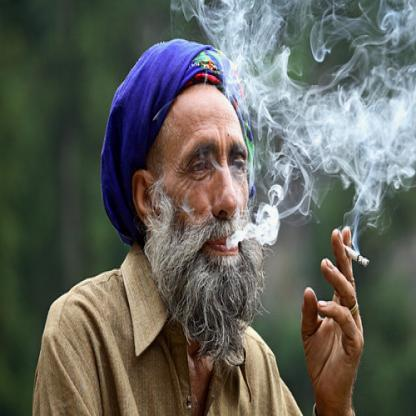cigarette: (342, 244, 370, 270)
person: (33, 36, 285, 415)
smoke: (280, 70, 414, 200), (210, 0, 298, 116), (368, 0, 414, 56), (227, 202, 282, 246)
